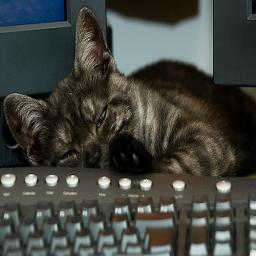catnose: (85, 150, 102, 168)
